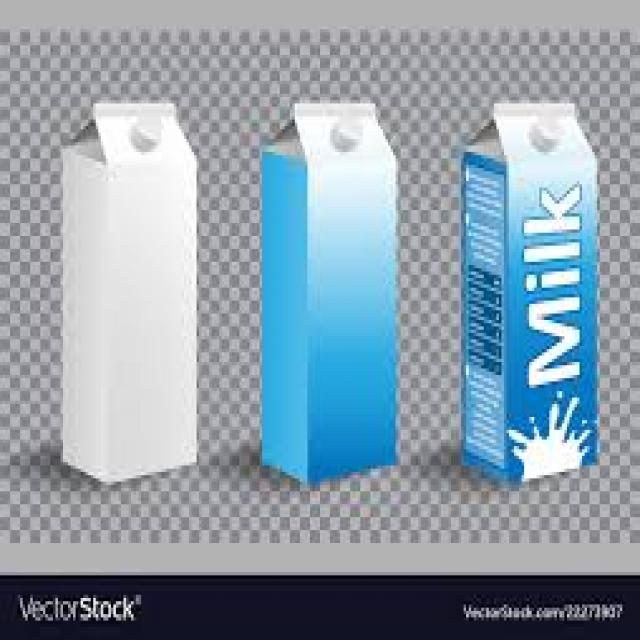non_white_jug: (42, 76, 212, 512), (256, 86, 407, 516), (458, 92, 614, 490)
